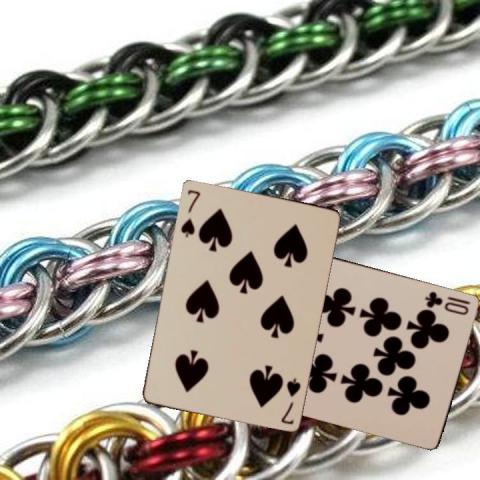10c: (422, 288, 473, 317)
7s: (177, 186, 202, 239), (278, 374, 302, 425)
